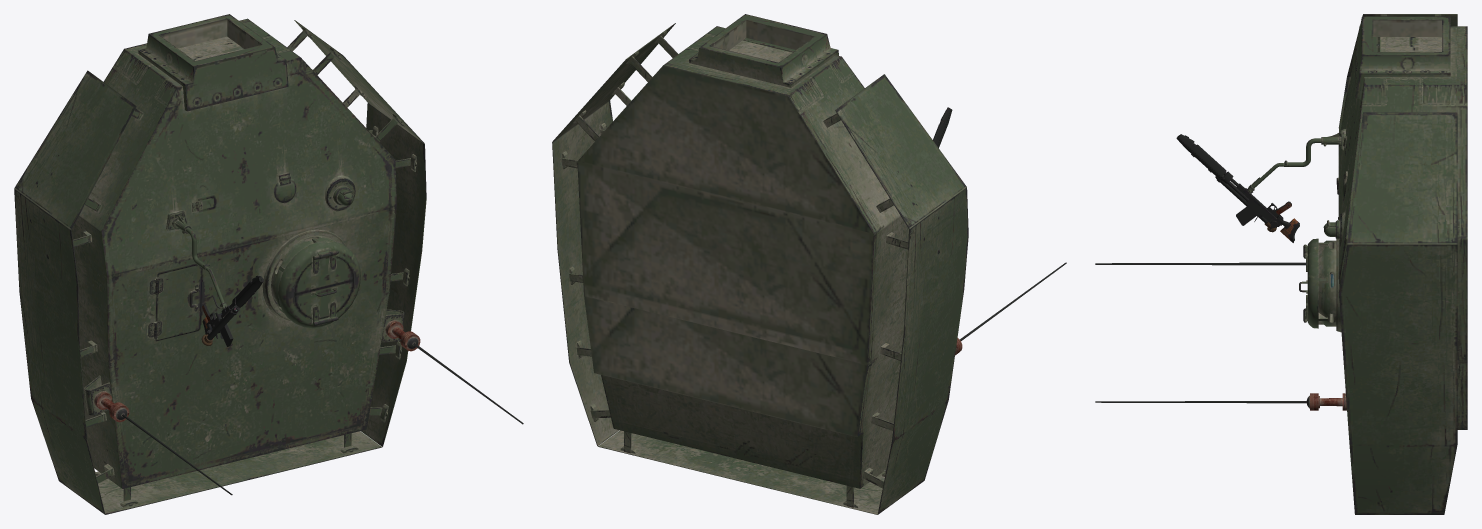
File: Turret_02.glb
3 renders of one model, left to right at view 1: azimuth 30°, elevation 25°; view 2: azimuth 150°, elevation 25°; view 3: azimuth 270°, elevation 25°, orthographic. The views are drawn at different scales.
Parts seen in each view (by area): view 1: set_0_group_0; view 2: set_0_group_0; view 3: set_0_group_0.
Part boxes in pixels (left/top/right/bottom): set_0_group_0: left=14, top=14, right=523, bottom=514; set_0_group_0: left=552, top=14, right=1066, bottom=514; set_0_group_0: left=1095, top=14, right=1467, bottom=514.
Bounding box in the file's own units: 3.15 × 3.59 × 2.95.
1 material, 1 textured.
